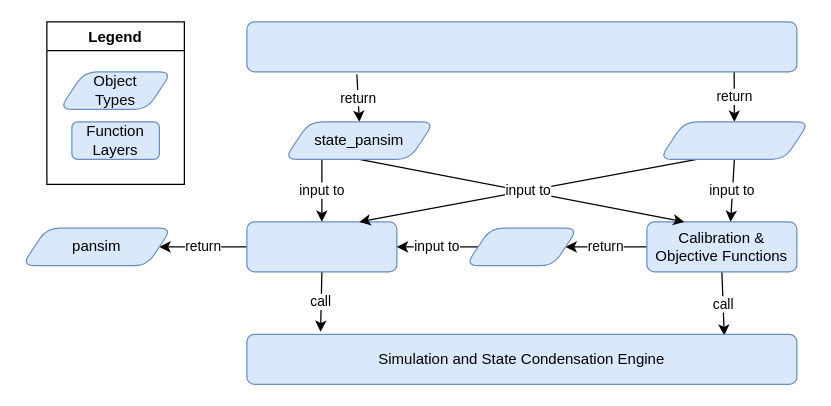
This 831x406 diagram has some shape labels left out. The shapes that lost their labels are listed below. From the top down, each one's centre as x and y in pixels, then its label:
point 521,46: Model Definition Functions
point 733,140: params_pansim
point 321,246: Forecasting & Simulation Functions
point 521,246: fit_pansim
